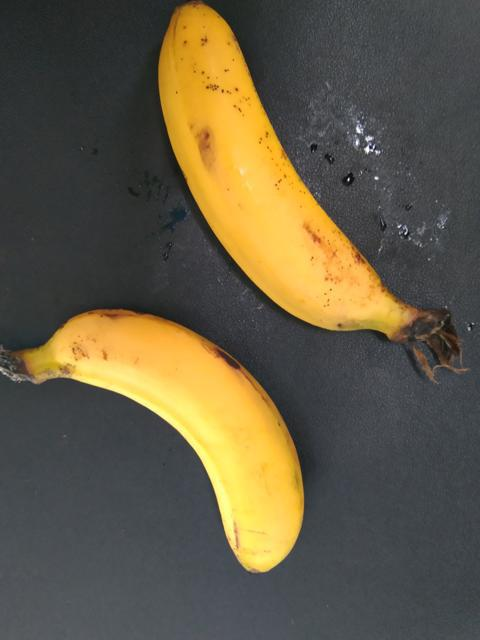freshripe: (15, 268, 338, 593)
ripe: (158, 0, 411, 337)
